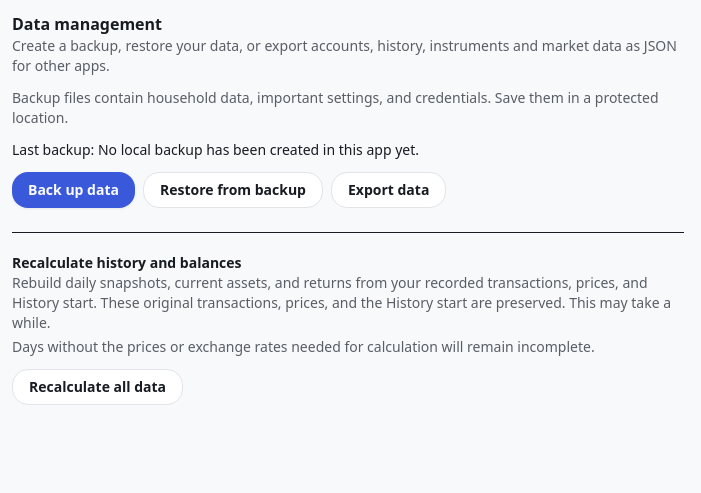
it: Derived data rebuild › shows an error and permits retry
Click the button "Recalculate all data": (98, 387) [12, 369, 183, 405]
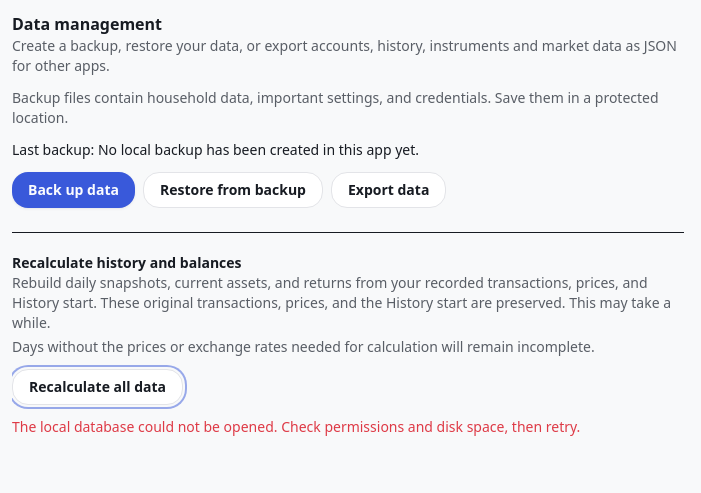
Now the message shows "The local database could not be opened", box [12, 417, 580, 436]
Click the button "Recalculate all data": (98, 387) [12, 369, 183, 405]
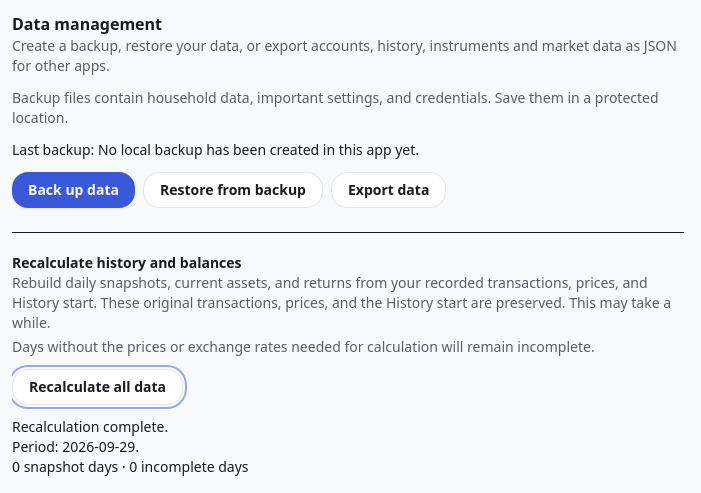
Now the text "Period: 2026-09-29." is shown, box [12, 437, 139, 456]
